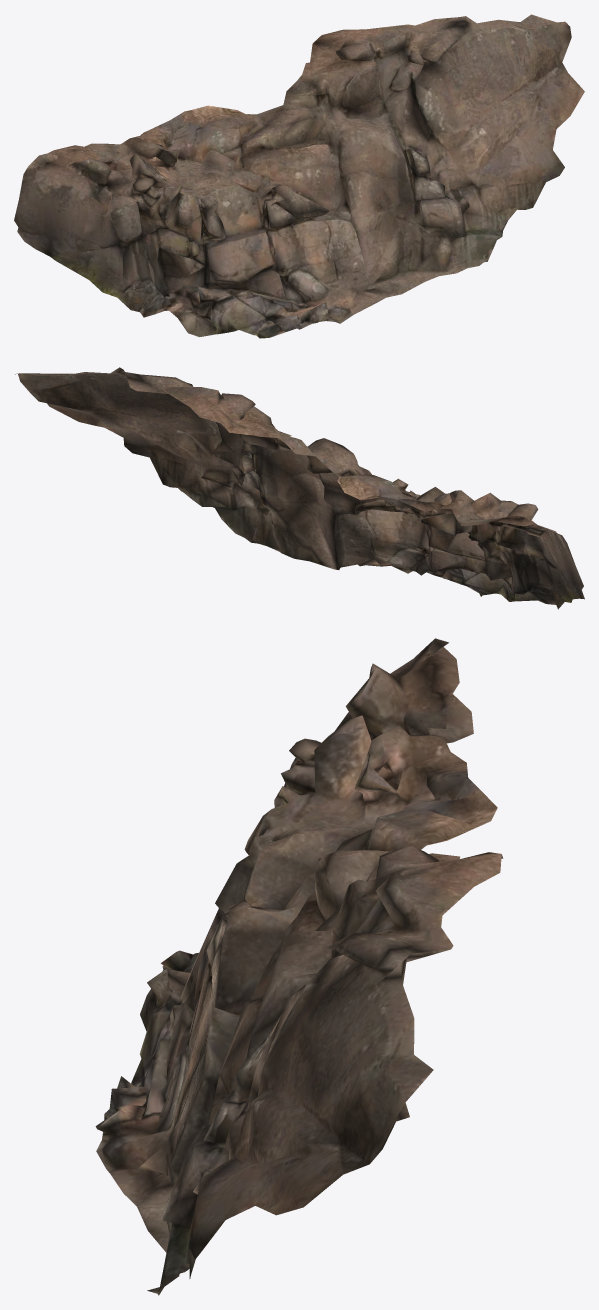
Rendered from cliff.glb.
3 views of the same model, one above another, from view 1: azimuth 30°, elevation 25°; view 2: azimuth 150°, elevation 25°; view 3: azimuth 270°, elevation 25° (orthographic). The views are drawn at different scales.
Visible parts, largest first — view 1: drone_rock_02_LOD0; view 2: drone_rock_02_LOD0; view 3: drone_rock_02_LOD0.
Boxes of the visible parts, x1,y1,x2,y2 form: drone_rock_02_LOD0: (14,14,584,338); drone_rock_02_LOD0: (15,367,584,609); drone_rock_02_LOD0: (95,638,503,1295).
Size of the model in its own units: 20.2 by 7.17 by 6.49.
Materials: 1 (1 with a texture image).
